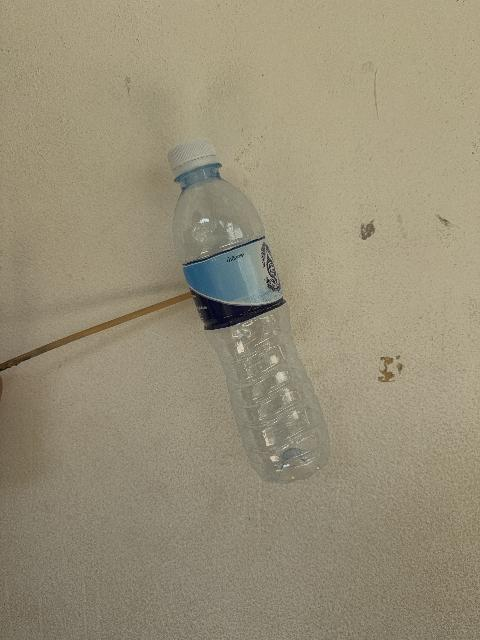bottle: (168, 138, 329, 482)
